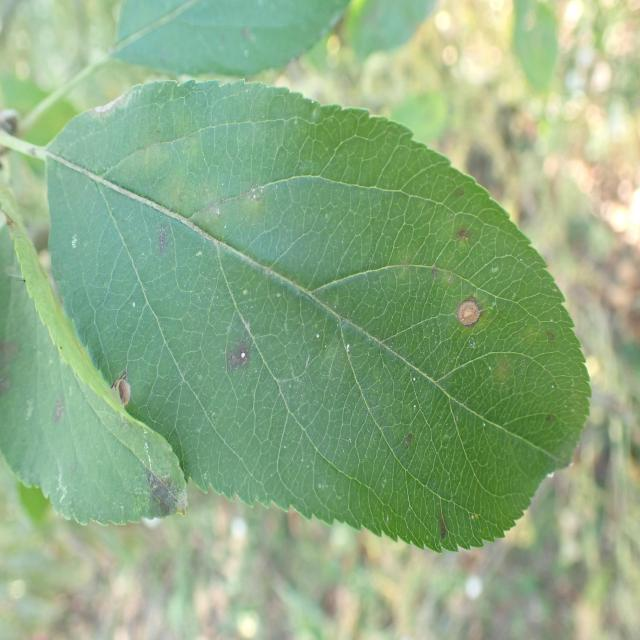frog-eye-leaf-spot: (46, 80, 592, 552)
